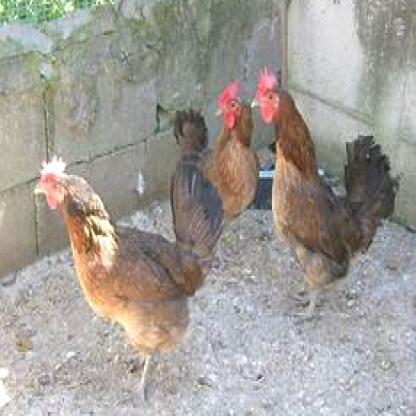chicken: (33, 157, 219, 400), (249, 68, 397, 321), (174, 80, 258, 206)
